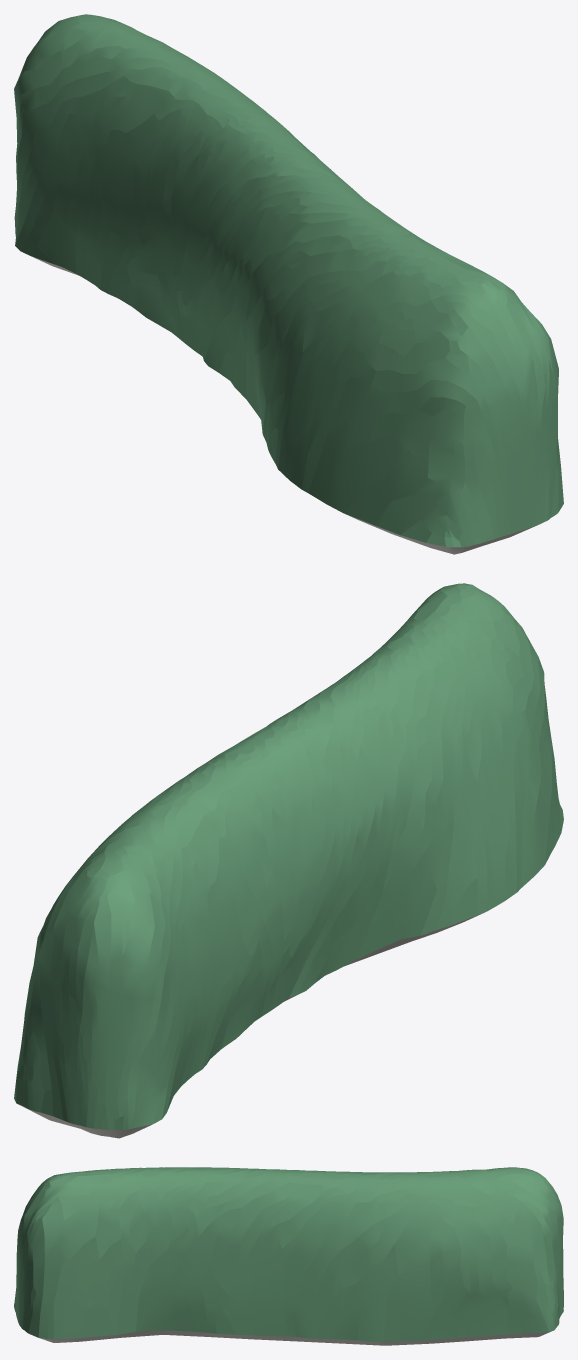
Rendered from island_asian_L.fbx.
3 renders of one model, top to bottom at view 1: azimuth 30°, elevation 25°; view 2: azimuth 150°, elevation 25°; view 3: azimuth 270°, elevation 25°, orthographic. The views are drawn at different scales.
Visible parts, largest first — view 1: island_asian_L; view 2: island_asian_L; view 3: island_asian_L.
Boxes of the visible parts, <box> form: island_asian_L: <box>14,14,563,554</box>; island_asian_L: <box>14,583,563,1138</box>; island_asian_L: <box>14,1167,563,1345</box>.
Bounding box in the file's own units: 2158 × 2601 × 8408.
